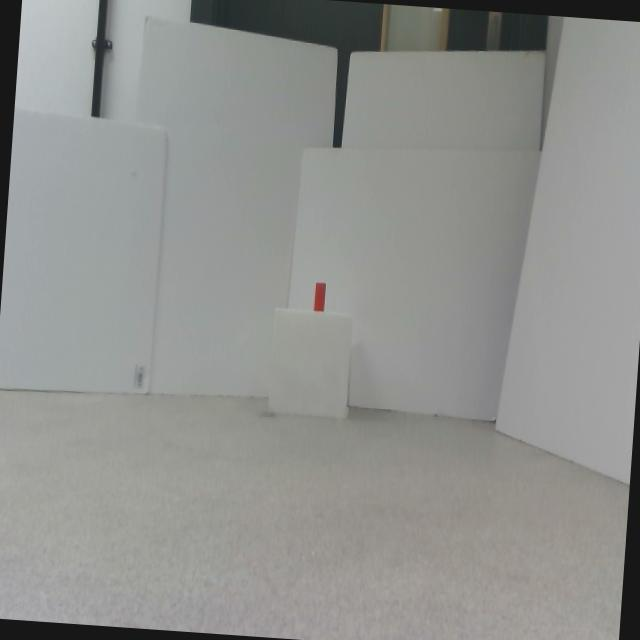red_cylinder: (314, 282, 326, 311)
